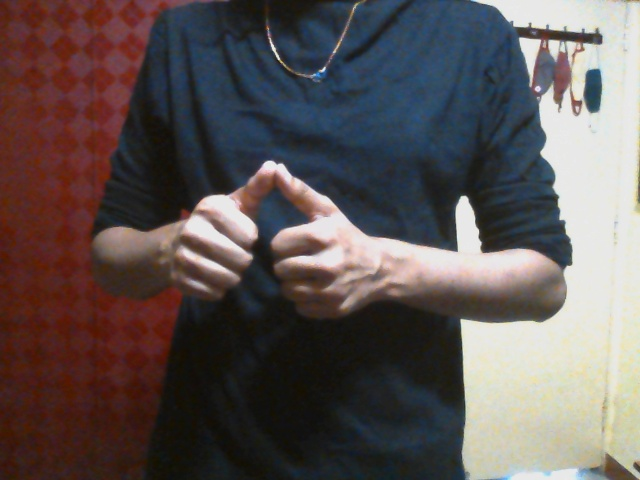A: (171, 160, 378, 323)
